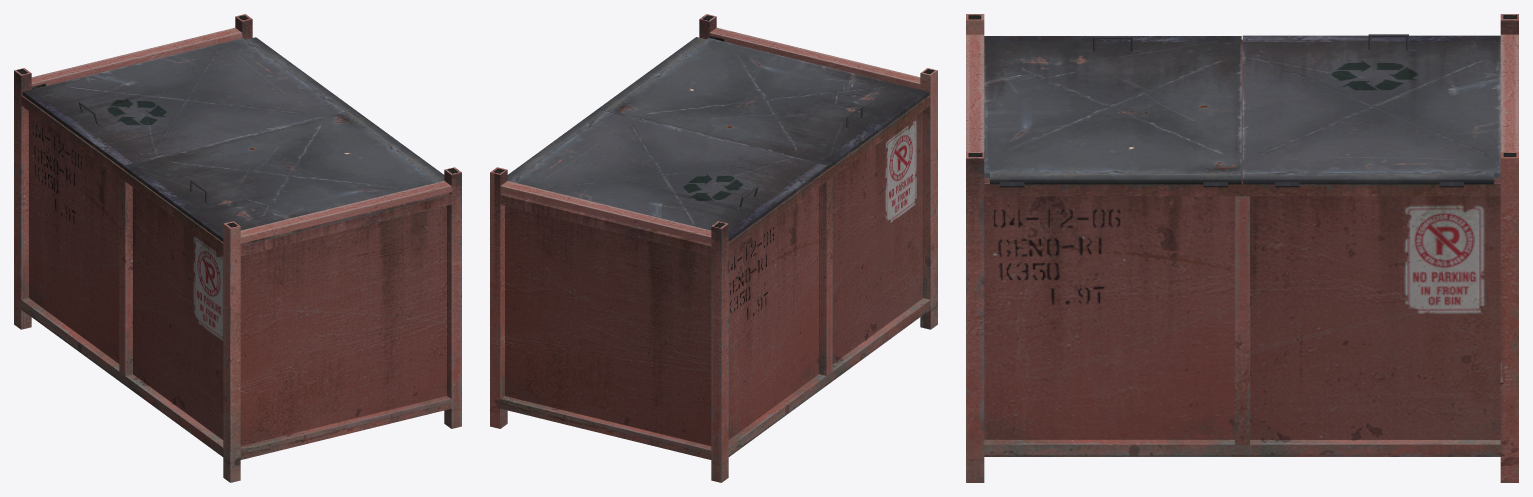
Rendered from SM_trash_box_01.fbx.
The picture shows the model from 3 angles, left to right: view 1: azimuth 30°, elevation 25°; view 2: azimuth 150°, elevation 25°; view 3: azimuth 270°, elevation 25°; orthographic projection. The views are drawn at different scales.
Parts seen in each view (by area): view 1: SM_trash_box_01; view 2: SM_trash_box_01; view 3: SM_trash_box_01.
Boxes of the visible parts, x1=… form: SM_trash_box_01: x1=14, y1=14, x2=461, y2=482; SM_trash_box_01: x1=490, y1=14, x2=937, y2=482; SM_trash_box_01: x1=966, y1=14, x2=1518, y2=482.
Bounding box in the file's own units: 120 × 192 × 124.
Materials: 1 (1 with a texture image).
